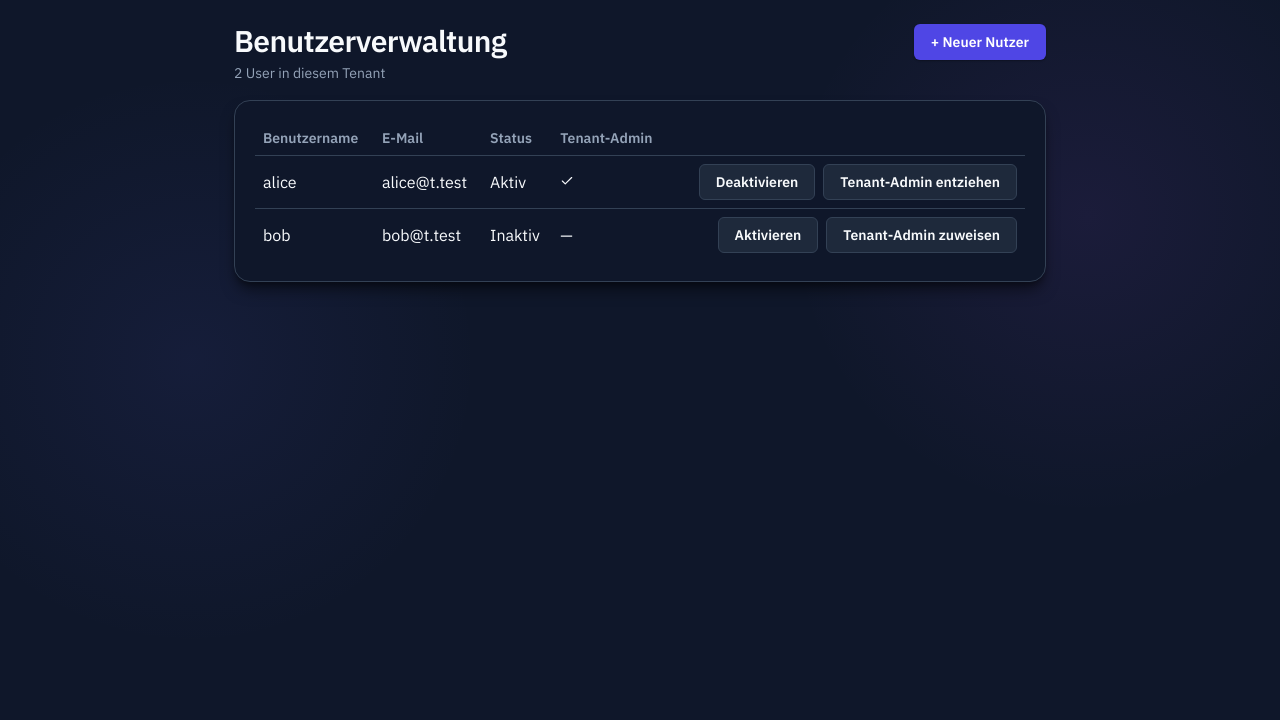
it: UserManagement › surfaces a LAST_ADMIN error inline, not as a generic failure
Expected: the text "alice" is shown, x1=255 y1=155 x2=374 y2=208
Click the button with test id "user-management-toggle-active-u1" at (757, 182), box x1=699 y1=164 x2=815 y2=200
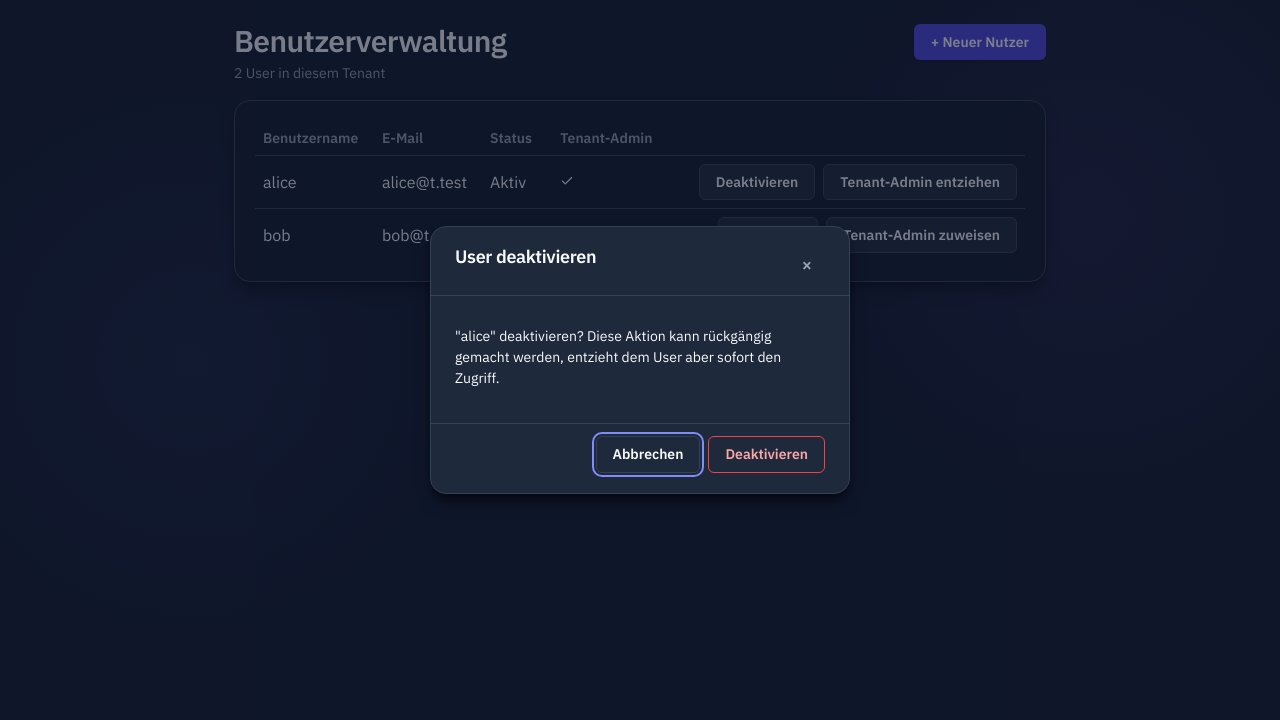
Click the button with test id "user-management-deactivate-confirm-confirm" at (767, 454), box x1=708 y1=436 x2=825 y2=473
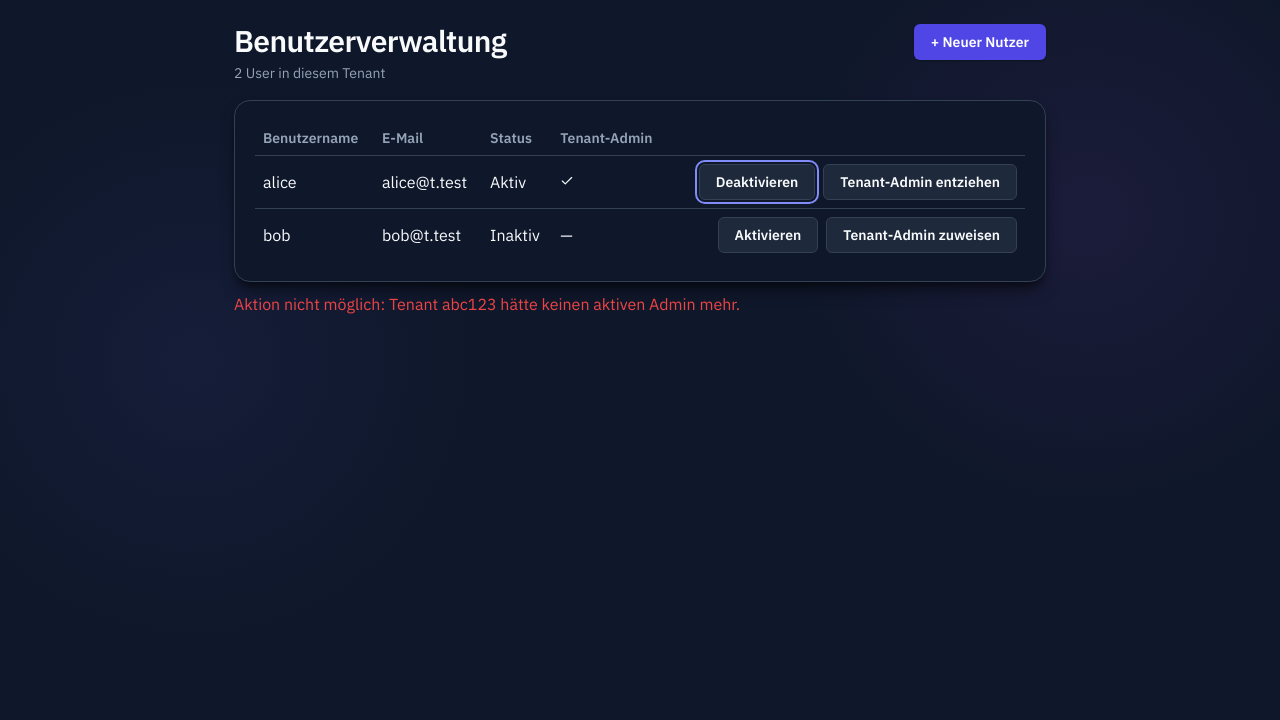
Expected: the message with test id "user-management-error" shows "keinen aktiven Admin mehr", x1=234 y1=294 x2=740 y2=314
Expected: the message with test id "user-management-error" shows "Tenant", x1=234 y1=294 x2=740 y2=314
Expected: the message with test id "user-management-error" shows "abc123", x1=234 y1=294 x2=740 y2=314
